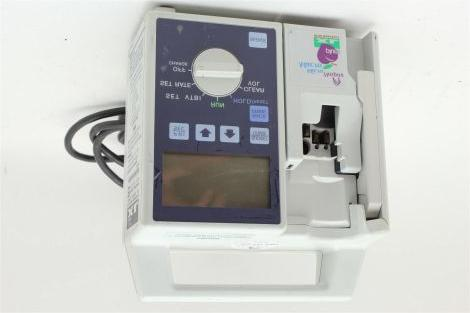plumxl1: (121, 4, 394, 304)
